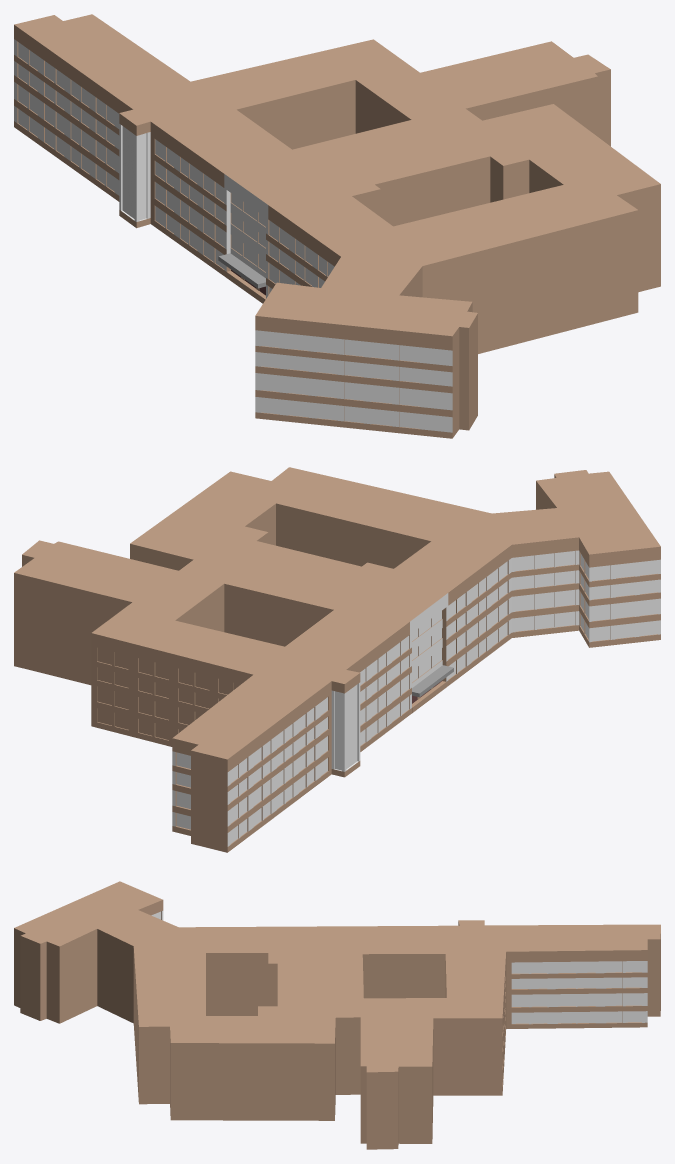
File: Biomed_building 1.fbx
The picture shows the model from 3 angles, top to bottom: view 1: azimuth 30°, elevation 25°; view 2: azimuth 150°, elevation 25°; view 3: azimuth 270°, elevation 25°; orthographic projection. The views are drawn at different scales.
Parts seen in each view (by area): view 1: polySurface18; view 2: polySurface18; view 3: polySurface18.
Part boxes in pixels (box(x1,y1,x2,y2)): polySurface18: box(14, 14, 660, 438); polySurface18: box(14, 467, 660, 852); polySurface18: box(14, 881, 660, 1149).
Size of the model in its own units: 204 by 38.52 by 292.
